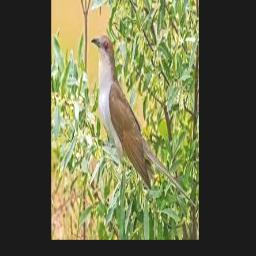Cuckoo: (91, 35, 195, 207)
